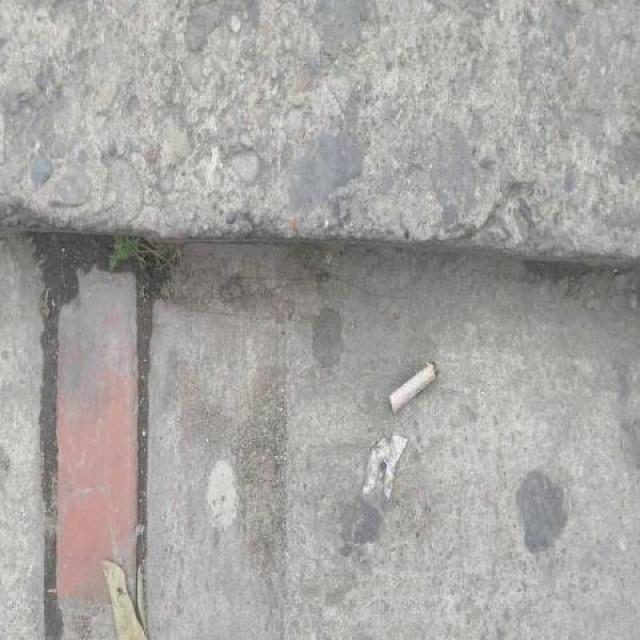non-organic waste: (384, 353, 444, 418)
